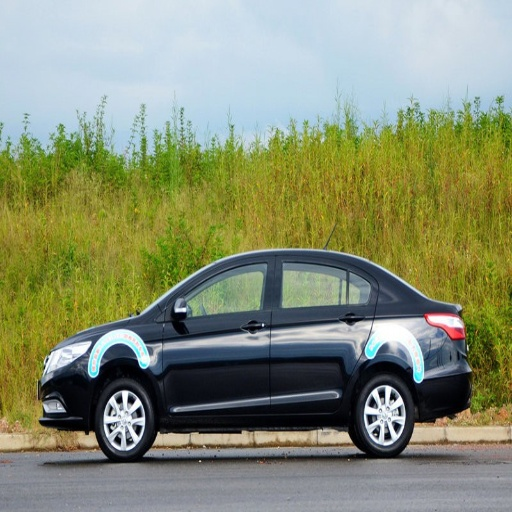back_left_door: (270, 252, 375, 409)
front_left_door: (163, 253, 275, 415)
